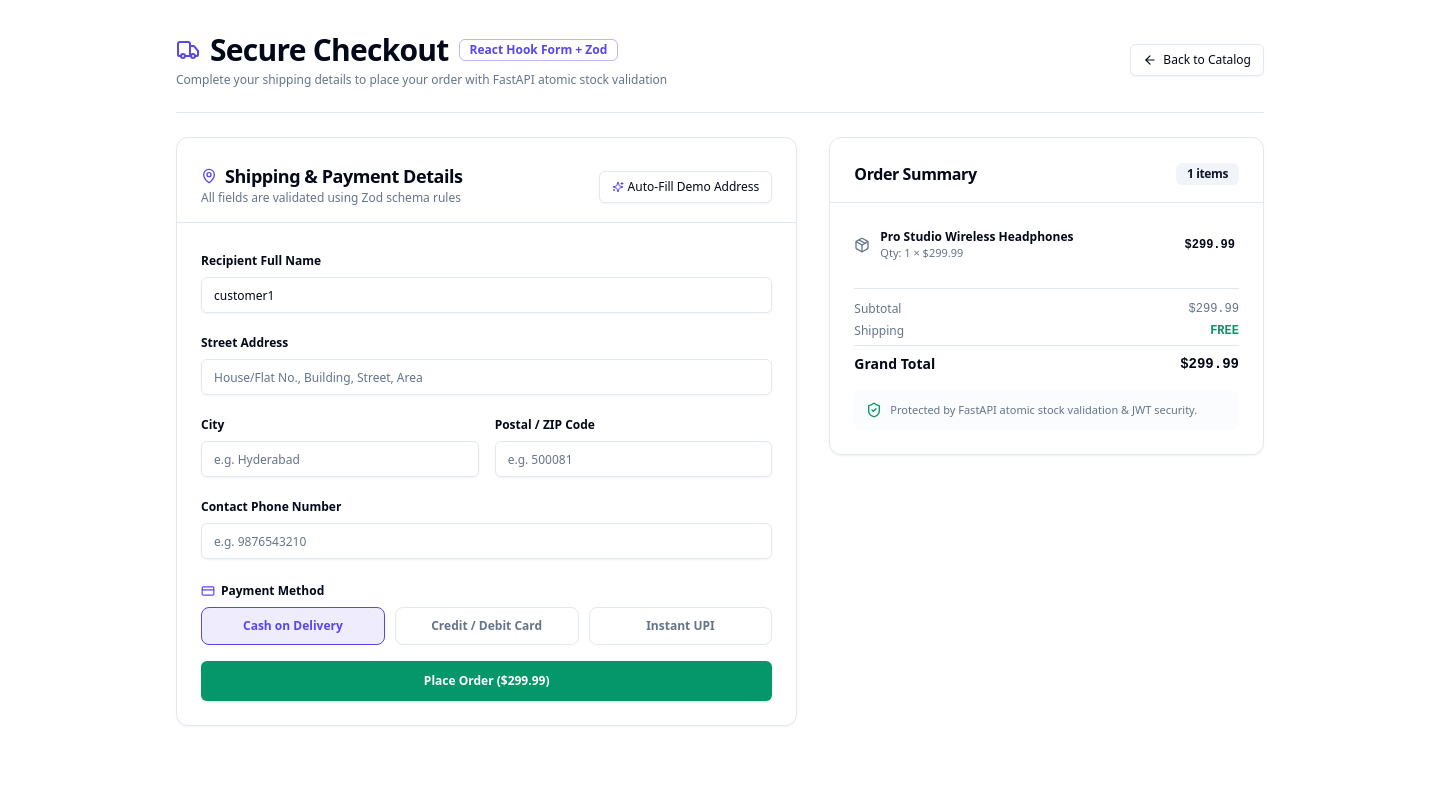
it: Day 16 — E-Commerce Frontend (Part 2) Comprehensive Test Suite › 2. Checkout Page (react-hook-form + Zod Validation & Order Creation) › validates postal code and phone number formats using Zod regex rules
The image size is (1440, 810).
In the field labelled "Street Address": (487, 377) [201,359,772,395], type "Plot 42, Silicon Valley Colony, Madhapur"
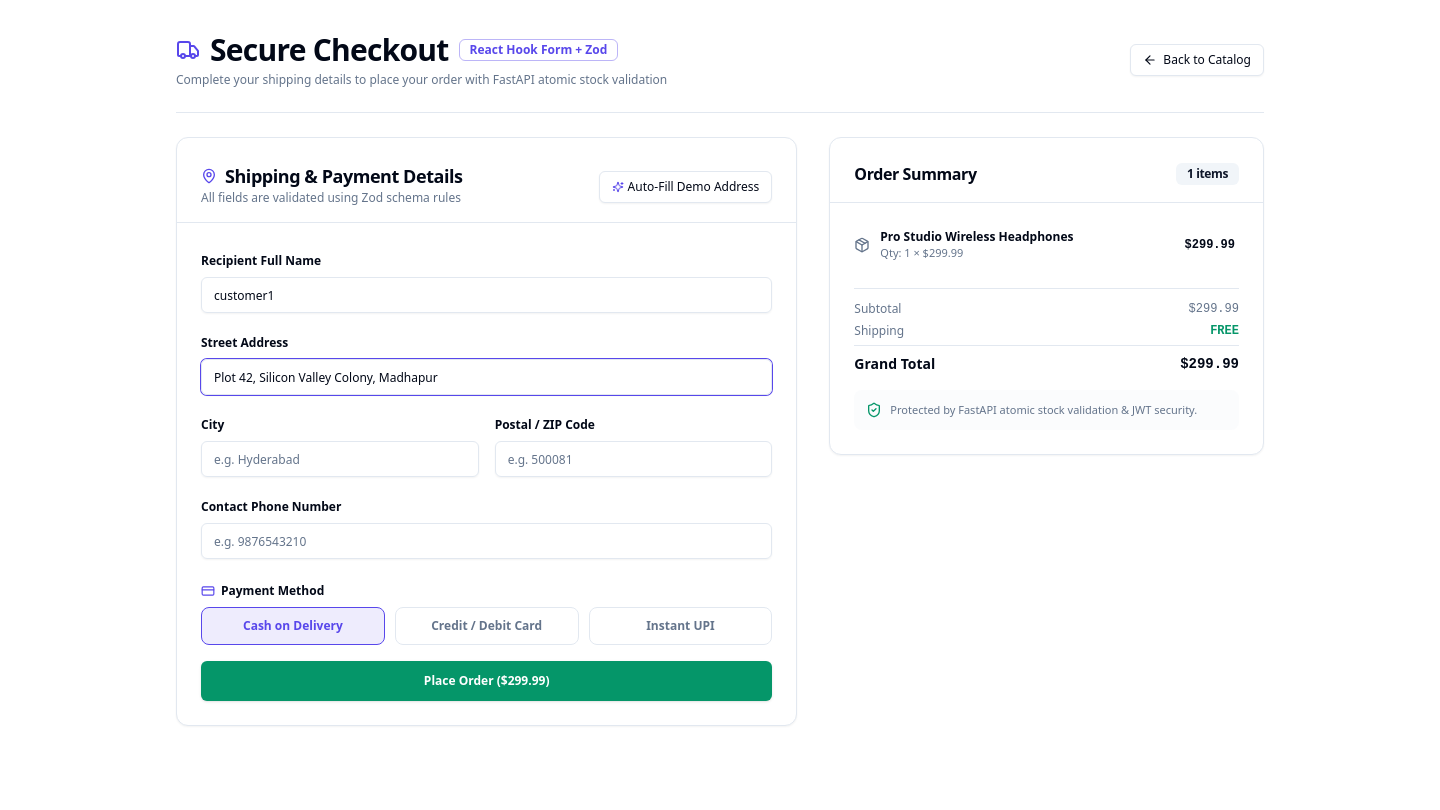
In the field labelled "City": (340, 459) [201,441,479,477], type "Hyderabad"
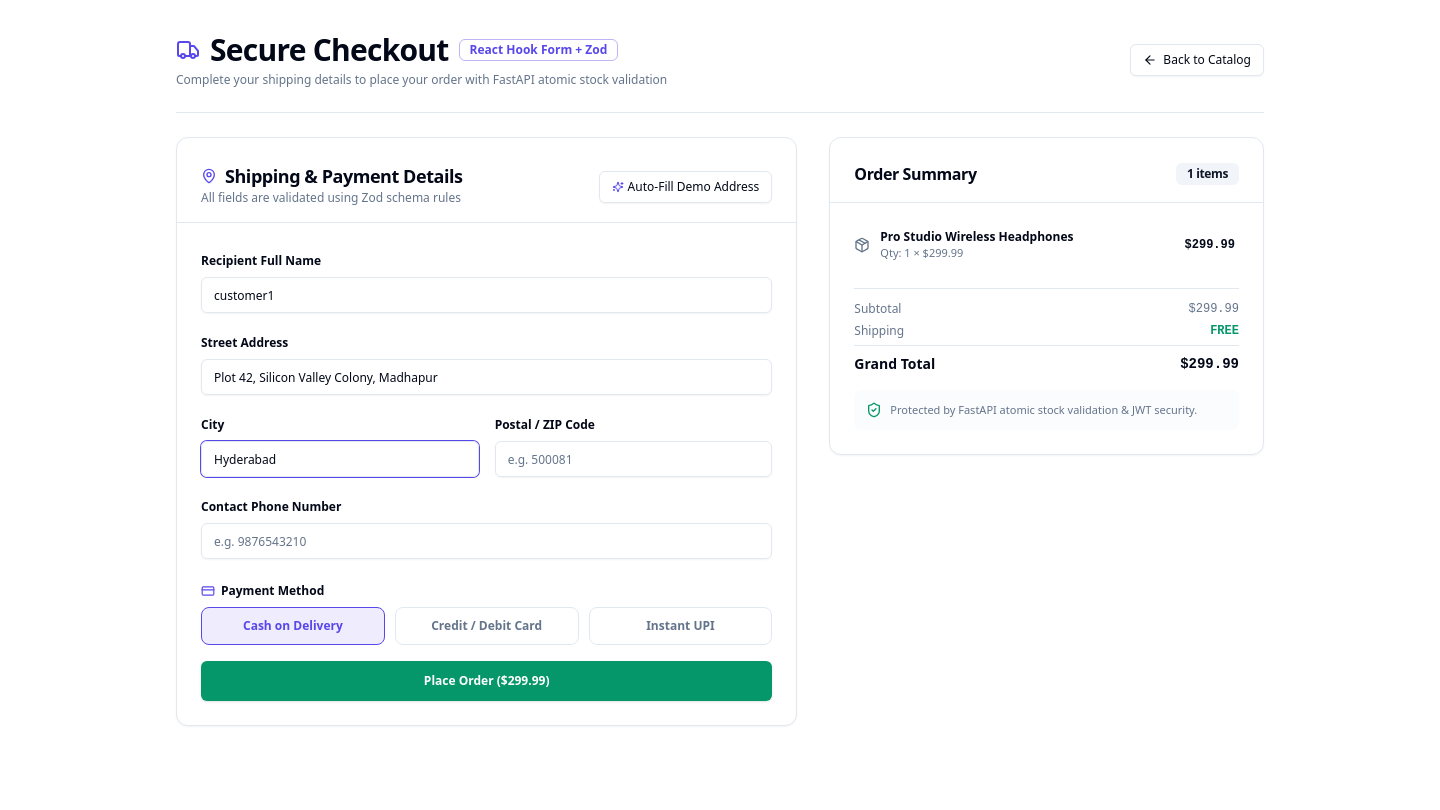
In the field labelled "Postal / ZIP Code": (634, 459) [495,441,772,477], type "12"
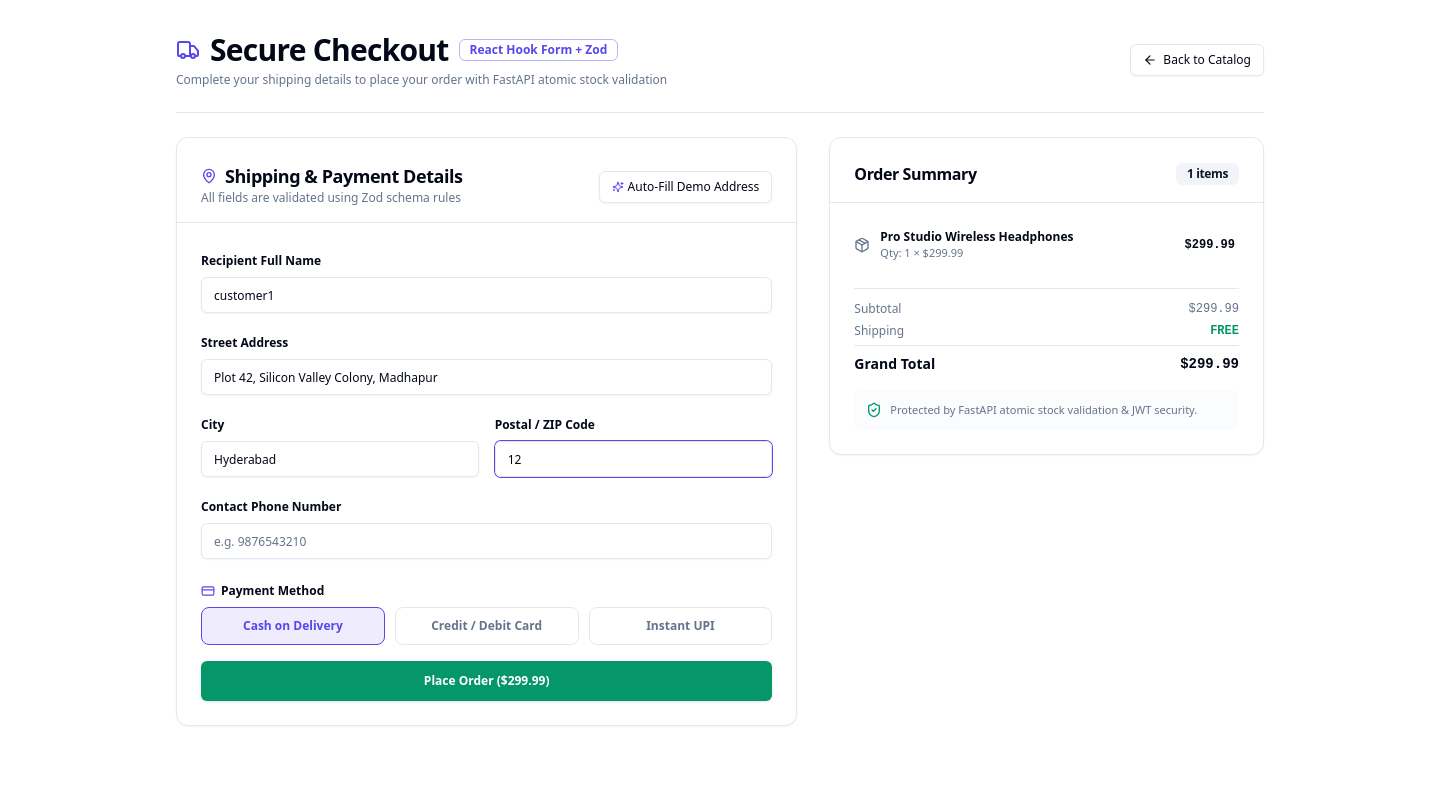
In the field labelled "Contact Phone Number": (487, 541) [201,523,772,559], type "12345"
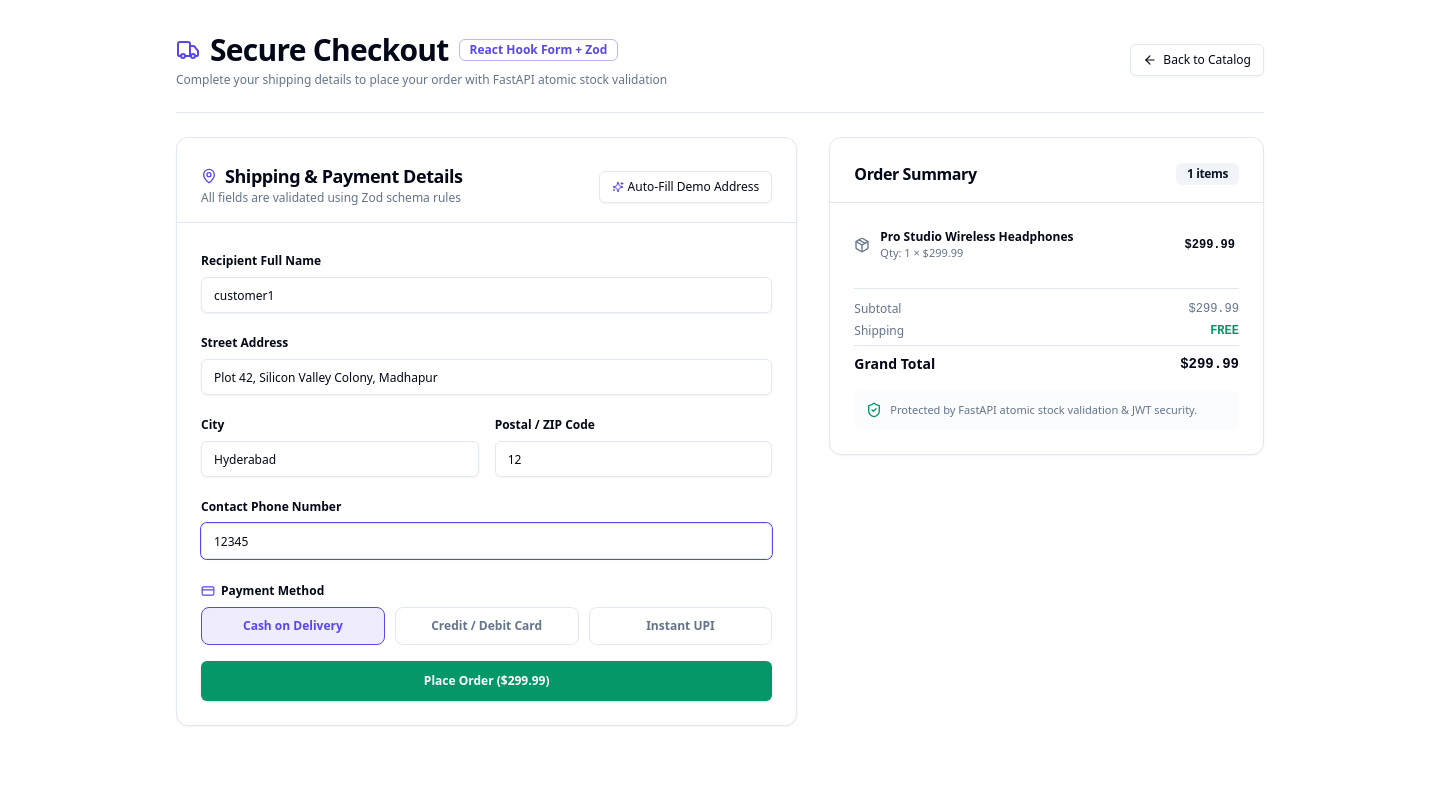
Click the button "Place Order ($299.99)": (487, 681) [201,661,772,701]
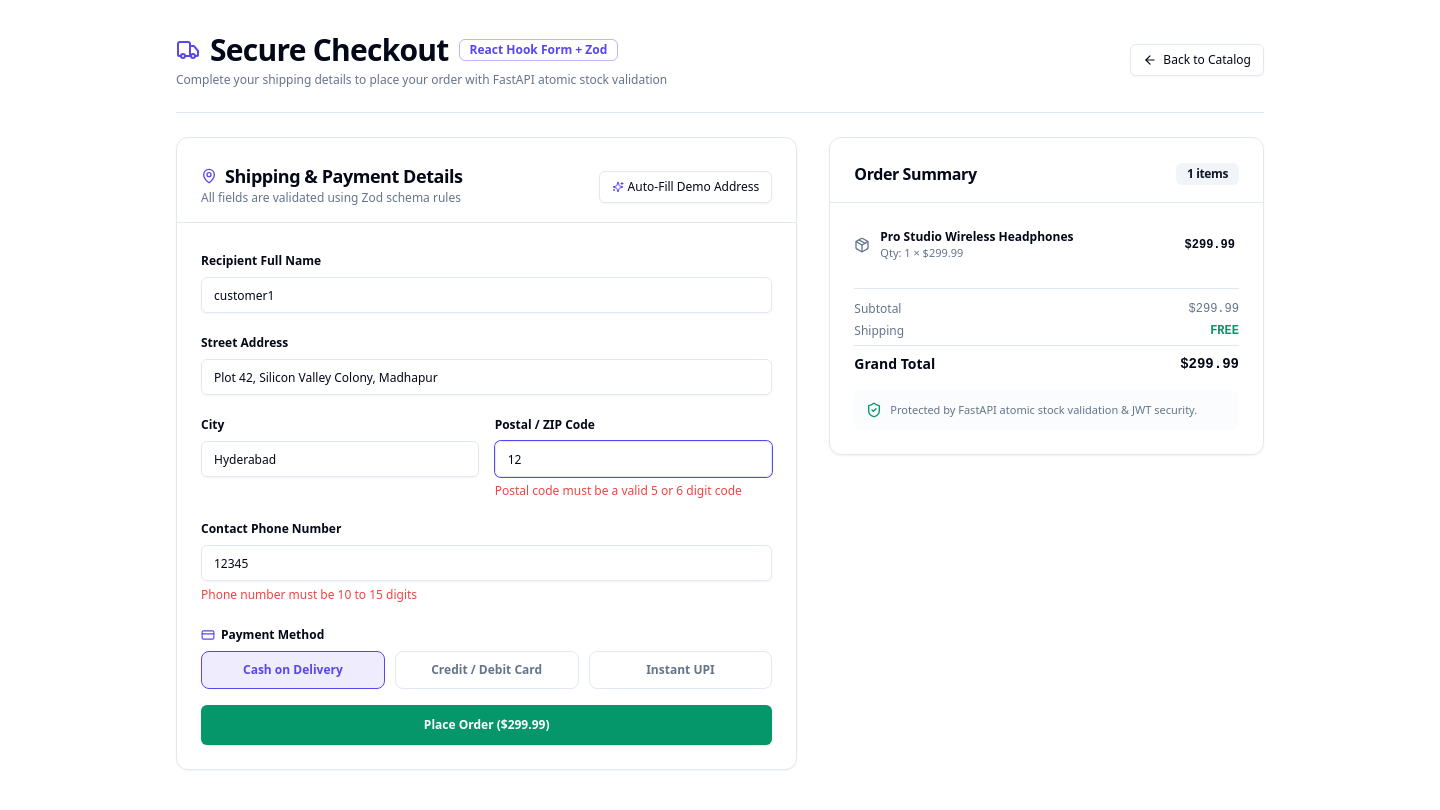
Expected: the text "Postal code must be a valid 5 or 6 digit code" is shown, [495,483,772,499]
Expected: the text "Phone number must be 10 to 15 digits" is shown, [201,586,417,603]
